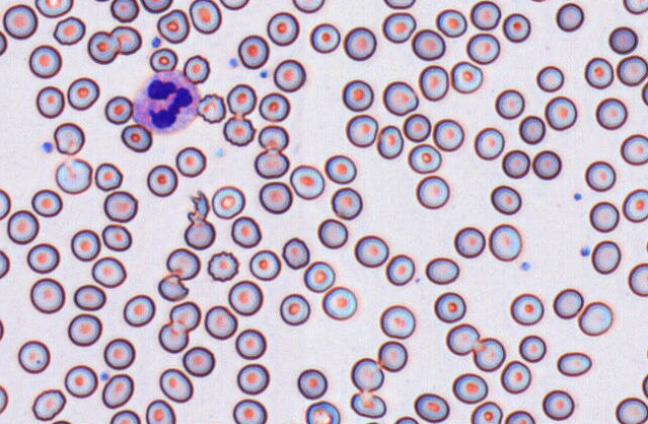GRAN: (131, 73, 203, 137)
PLT: (578, 242, 593, 258), (39, 140, 53, 155), (149, 35, 162, 50), (98, 368, 111, 382), (258, 68, 270, 80), (519, 260, 532, 271), (227, 56, 238, 68), (573, 192, 584, 201)
RBC: (54, 157, 92, 194), (2, 4, 38, 39), (30, 277, 65, 313), (577, 301, 613, 336), (379, 304, 415, 339), (382, 80, 418, 115), (488, 223, 521, 261), (289, 164, 324, 199), (321, 286, 357, 320), (350, 357, 384, 392), (159, 367, 193, 402), (228, 280, 262, 315), (415, 175, 449, 209), (211, 185, 245, 219), (6, 209, 39, 244), (101, 373, 134, 408), (156, 8, 189, 43), (67, 313, 102, 346), (266, 11, 299, 46), (544, 95, 577, 130), (451, 372, 488, 403), (32, 388, 66, 421), (17, 339, 50, 373), (64, 364, 97, 398), (472, 337, 505, 371), (188, 0, 221, 34), (28, 44, 61, 78), (204, 305, 237, 339), (510, 292, 544, 325), (354, 234, 388, 267), (343, 26, 376, 60), (258, 181, 292, 214), (91, 256, 126, 288), (103, 190, 138, 222), (237, 34, 269, 69), (418, 64, 448, 101), (122, 294, 155, 327), (66, 77, 99, 110), (450, 60, 483, 93), (345, 114, 378, 147), (183, 216, 215, 250), (87, 30, 119, 64), (445, 323, 479, 355), (382, 11, 416, 43), (411, 28, 445, 60), (466, 32, 500, 64), (413, 392, 449, 422), (146, 164, 178, 197), (248, 249, 281, 281), (433, 291, 466, 323), (432, 118, 464, 151), (273, 59, 305, 92), (473, 126, 504, 160), (254, 148, 289, 178), (103, 337, 135, 369), (303, 260, 335, 292), (453, 226, 485, 258), (330, 187, 362, 219), (595, 97, 627, 129), (341, 79, 373, 111), (26, 242, 59, 273), (500, 360, 531, 393), (541, 389, 574, 420), (230, 215, 261, 248), (53, 122, 84, 155), (236, 363, 269, 394), (591, 240, 621, 274), (407, 143, 441, 173), (207, 250, 239, 281), (552, 287, 583, 319), (279, 293, 310, 325), (584, 160, 616, 191), (222, 116, 255, 146), (70, 228, 100, 261), (226, 83, 256, 116), (182, 346, 215, 376), (317, 218, 348, 249), (175, 146, 206, 177), (235, 328, 266, 359), (616, 55, 647, 86), (309, 22, 340, 53), (158, 321, 188, 353), (110, 25, 142, 55), (385, 253, 415, 285), (469, 0, 501, 30), (377, 340, 407, 372), (324, 154, 356, 184), (258, 92, 290, 122), (52, 16, 85, 45), (35, 85, 64, 118), (584, 56, 613, 89), (425, 256, 459, 284), (376, 124, 403, 159), (169, 301, 200, 331), (297, 368, 327, 399), (490, 184, 521, 214), (589, 201, 619, 232), (494, 88, 524, 119), (120, 123, 152, 152), (435, 8, 467, 37), (196, 93, 226, 123), (31, 188, 62, 217), (281, 237, 309, 269), (73, 284, 106, 311), (232, 398, 267, 423), (556, 351, 591, 376), (532, 149, 561, 179), (101, 223, 132, 251), (615, 396, 647, 423), (620, 133, 647, 165), (622, 188, 647, 222), (501, 149, 530, 178), (402, 113, 431, 142), (104, 95, 133, 124), (555, 2, 584, 31), (502, 12, 530, 42), (608, 26, 638, 54), (94, 162, 122, 191), (183, 54, 210, 84), (258, 124, 288, 151), (305, 400, 340, 423), (518, 334, 546, 362), (518, 115, 545, 144), (536, 65, 564, 92), (145, 399, 175, 423), (470, 401, 502, 423), (149, 47, 177, 72), (34, 0, 73, 17), (109, 0, 139, 22), (628, 262, 647, 296), (109, 409, 140, 423), (292, 0, 324, 13), (140, 0, 172, 13), (504, 410, 535, 423), (0, 188, 11, 219), (623, 0, 647, 14), (219, 0, 249, 10), (0, 249, 10, 278), (383, 0, 415, 9), (0, 384, 8, 413), (393, 415, 418, 423), (641, 373, 648, 398), (0, 30, 7, 55), (641, 80, 647, 105), (50, 419, 72, 424), (281, 420, 304, 424), (0, 318, 4, 341)
Schistocyte: (167, 248, 202, 280), (350, 391, 387, 420), (158, 274, 190, 301), (186, 190, 209, 226)
